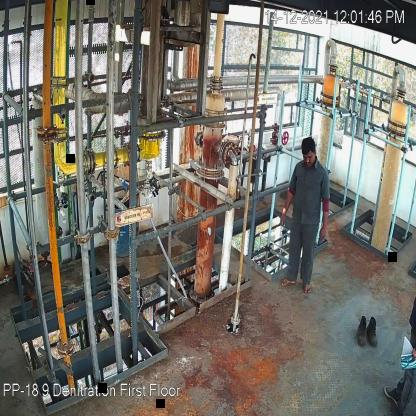no_shoes: (301, 283, 312, 297), (279, 277, 296, 286)
shoes: (356, 314, 370, 348), (368, 317, 379, 346)
